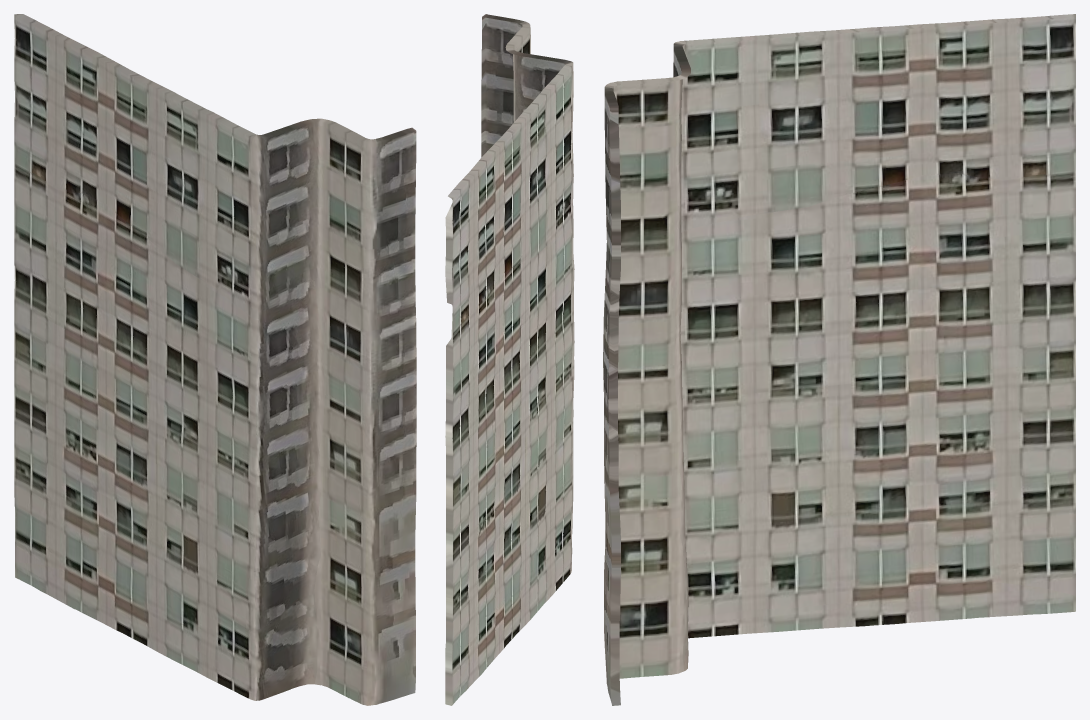
Rendered from z20-167763-405239-h1-yup-uvflip-v3-world.glb.
The picture shows the model from 3 angles, left to right: view 1: azimuth 30°, elevation 25°; view 2: azimuth 150°, elevation 25°; view 3: azimuth 270°, elevation 25°; orthographic projection. The views are drawn at different scales.
Size of the model in its own units: 12.04 by 35.48 by 25.44.
Materials: 1 (1 with a texture image).
